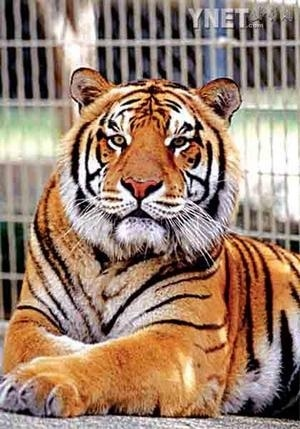tigre: (4, 69, 300, 416)
